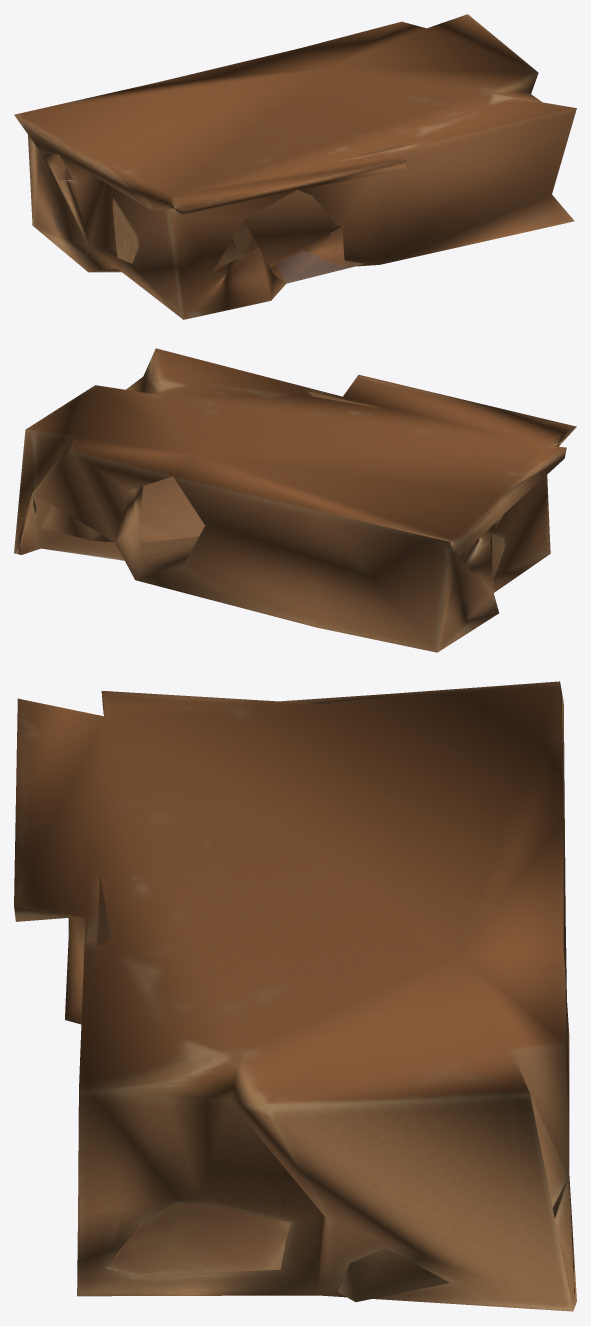
The model's file is Meshy_AI_Rusty_Metal_Plate_0831083319_texture.fbx.
The picture shows the model from 3 angles, top to bottom: view 1: azimuth 30°, elevation 25°; view 2: azimuth 150°, elevation 25°; view 3: azimuth 270°, elevation 25°; orthographic projection. The views are drawn at different scales.
Parts seen in each view (by area): view 1: mesh_node; view 2: mesh_node; view 3: mesh_node.
Part boxes in pixels (left/top/right/bottom): mesh_node: left=14, top=14, right=576, bottom=319; mesh_node: left=14, top=348, right=576, bottom=652; mesh_node: left=14, top=681, right=576, bottom=1311.
Bounding box in the file's own units: 100 × 26.86 × 58.4.
1 material, 1 textured.
